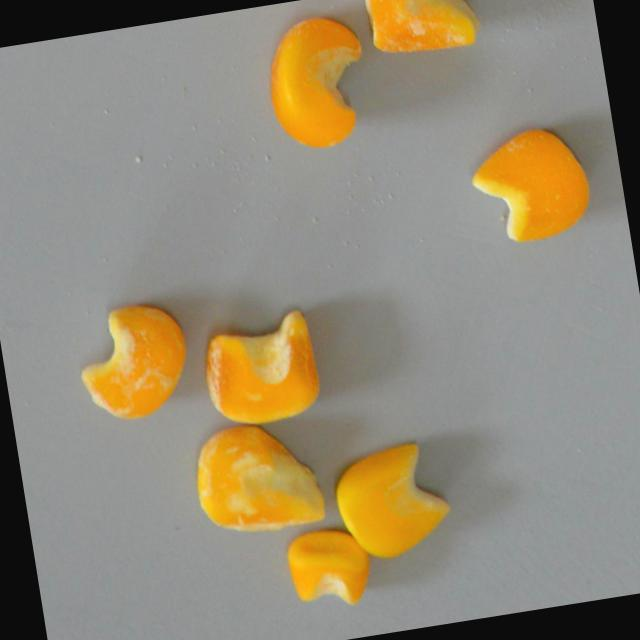no_canjicado: (465, 120, 598, 251), (328, 437, 458, 566), (285, 522, 378, 616)
pelicula: (189, 414, 329, 544), (259, 9, 377, 154), (198, 306, 328, 431), (72, 298, 197, 427), (361, 0, 483, 62)
